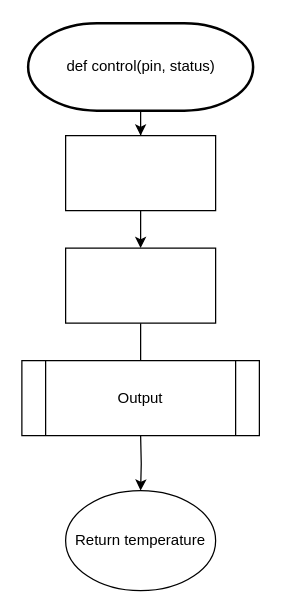
Some shapes in this 281 by 613 pixel diagram are drawn without their labels. Each missing label, with the centre of its shape:
"Klassen importieren" belongs at (x=140, y=172).
"Variablen deklarieren" belongs at (x=140, y=285).
